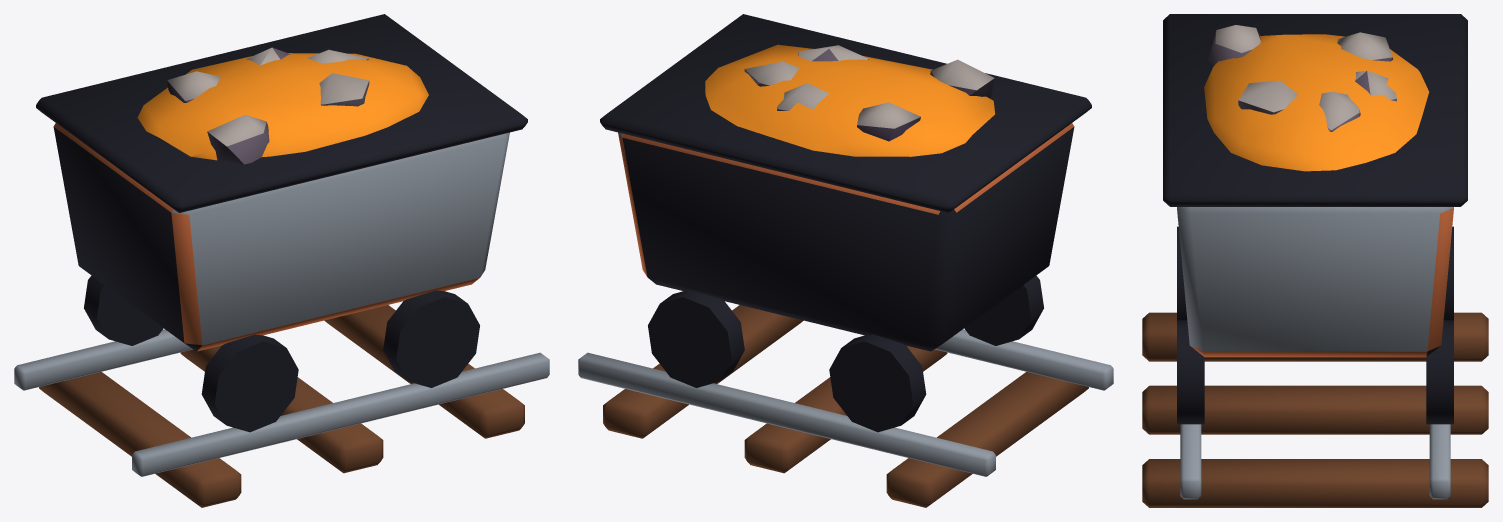
The model's file is MineCart.fbx.
3 views of the same model, side by side, from view 1: azimuth 30°, elevation 25°; view 2: azimuth 150°, elevation 25°; view 3: azimuth 270°, elevation 25° (orthographic). The views are drawn at different scales.
Parts seen in each view (by area): view 1: MineCart; view 2: MineCart; view 3: MineCart.
Boxes of the visible parts, x1=… form: MineCart: x1=14, y1=14, x2=549, y2=507; MineCart: x1=578, y1=14, x2=1113, y2=507; MineCart: x1=1142, y1=14, x2=1488, y2=507.
Size of the model in its own units: 1.45 by 1.16 by 1.
Materials: 2 (2 with a texture image).
